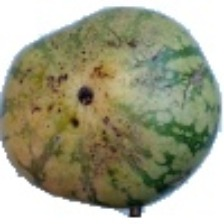watermelon: (33, 43, 206, 190)
